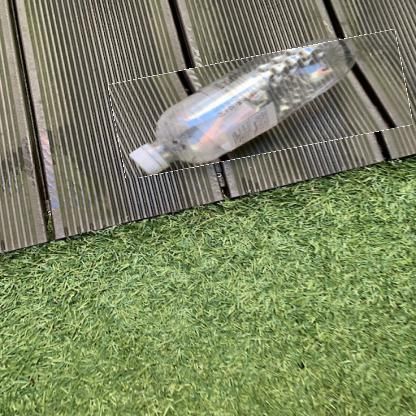plastic-bottles: (112, 44, 411, 167)
